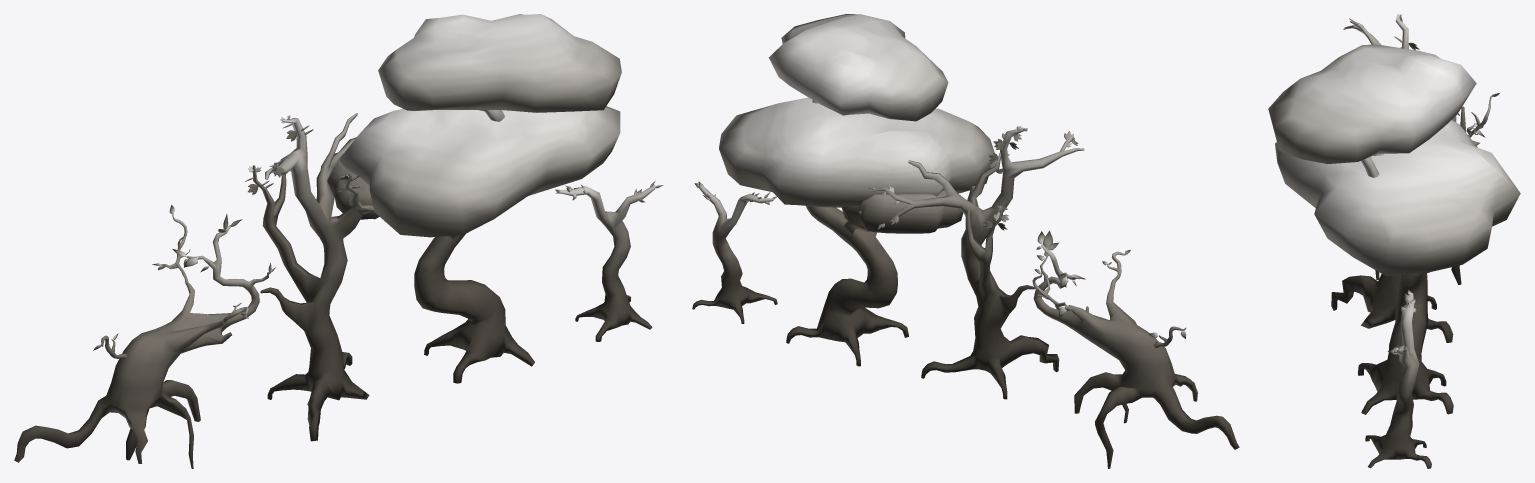
The model's file is M_Trees_SizeL_01.fbx.
The picture shows the model from 3 angles, left to right: view 1: azimuth 30°, elevation 25°; view 2: azimuth 150°, elevation 25°; view 3: azimuth 270°, elevation 25°; orthographic projection. The views are drawn at different scales.
Visible parts, largest first — view 1: M_Roots_Tree_02leaves, M_Roots_Tree_03, M_Roots_Tree_04, M_Roots_Tree_02, M_Roots_Tree_01; view 2: M_Roots_Tree_02leaves, M_Roots_Tree_03, M_Roots_Tree_04, M_Roots_Tree_02, M_Roots_Tree_01, M_Roots_Tree_03Leaves, M_Roots_Tree_04Leaves; view 3: M_Roots_Tree_02leaves, M_Roots_Tree_02, M_Roots_Tree_01, M_Roots_Tree_03, M_Roots_Tree_04.
Boxes of the visible parts, <box> form: M_Roots_Tree_02leaves: <box>327,14,621,237</box>; M_Roots_Tree_03: <box>252,113,374,441</box>; M_Roots_Tree_04: <box>14,213,270,468</box>; M_Roots_Tree_02: <box>414,110,534,383</box>; M_Roots_Tree_01: <box>556,184,655,341</box>; M_Roots_Tree_02leaves: <box>719,14,994,233</box>; M_Roots_Tree_03: <box>872,127,1084,399</box>; M_Roots_Tree_04: <box>1032,244,1239,468</box>; M_Roots_Tree_02: <box>786,100,908,366</box>; M_Roots_Tree_01: <box>692,185,777,323</box>; M_Roots_Tree_03Leaves: <box>868,125,1078,230</box>; M_Roots_Tree_04Leaves: <box>1034,230,1186,338</box>; M_Roots_Tree_02leaves: <box>1268,44,1520,276</box>; M_Roots_Tree_02: <box>1357,153,1453,414</box>; M_Roots_Tree_01: <box>1365,292,1431,468</box>; M_Roots_Tree_03: <box>1331,14,1479,342</box>; M_Roots_Tree_04: <box>1375,96,1491,284</box>.
Bounding box in the file's own units: 4160 × 2382 × 1449.
